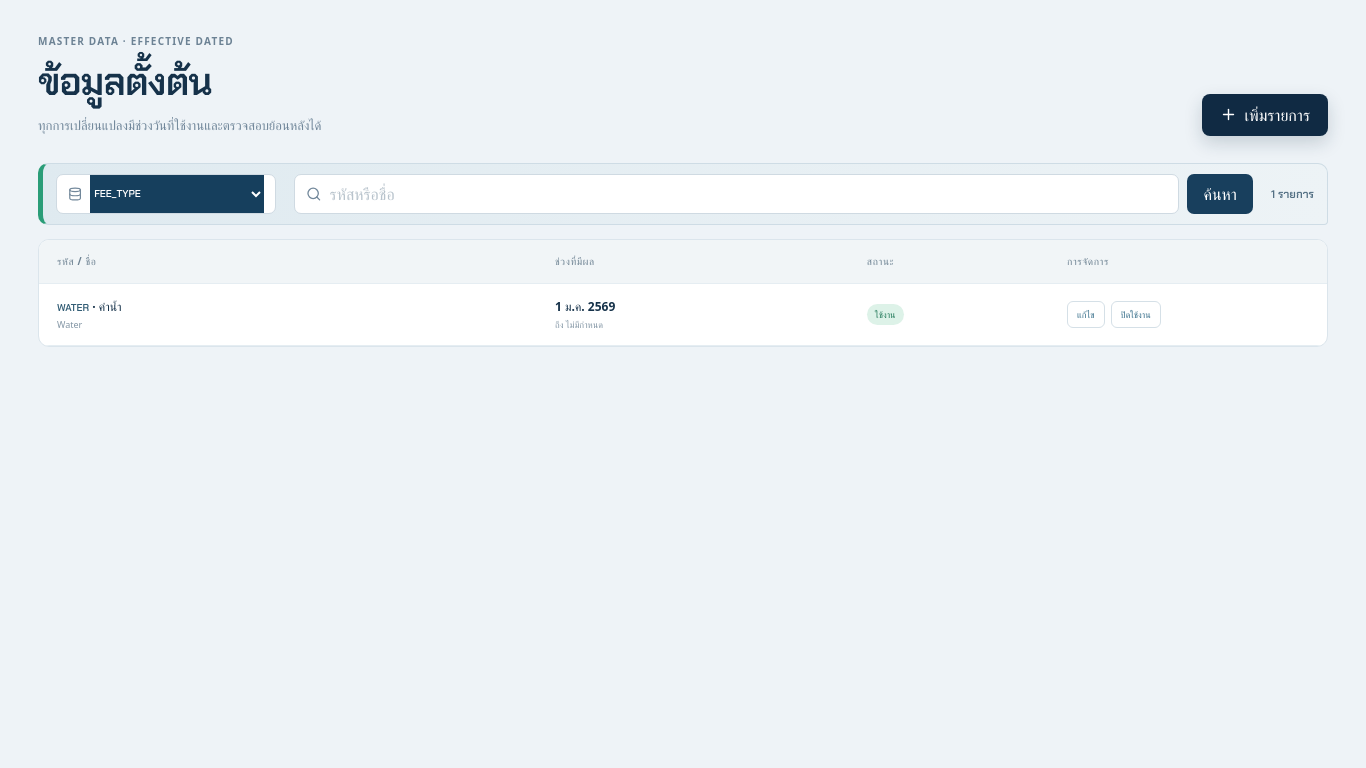
it: master data page › explains how to recover from an optimistic locking conflict
Check: the text "WATER" is shown, box [57,300,89,314]
Click the button "แก้ไข" at (1086, 314), box [1067,300,1104,328]
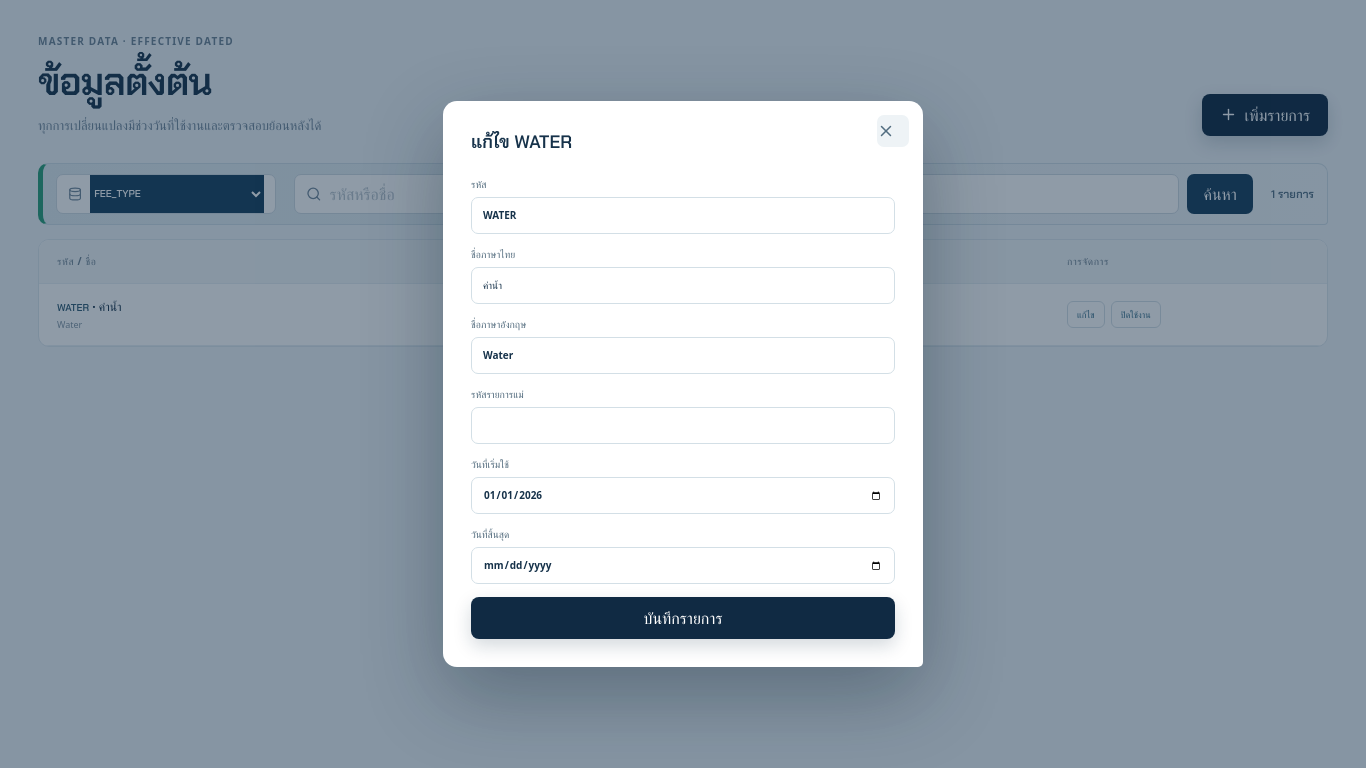
Click the button "บันทึกรายการ" at (683, 618), box [471,597,895,639]
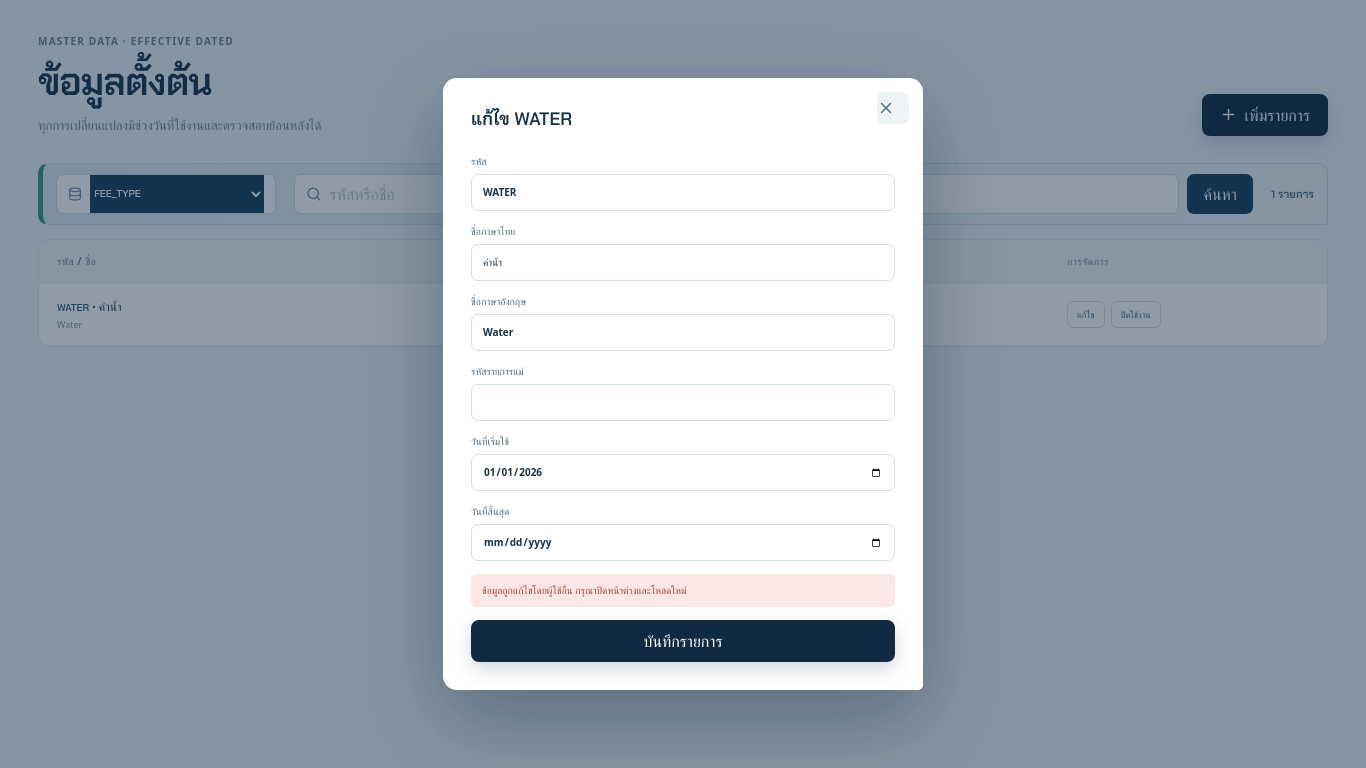
Check: the message shows "ข้อมูลถูกแก้ไขโดยผู้ใช้อื่น", box [482,583,686,597]
